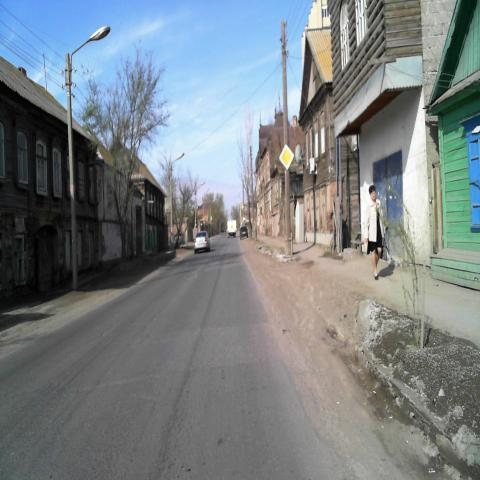2_1: (279, 144, 294, 171)
